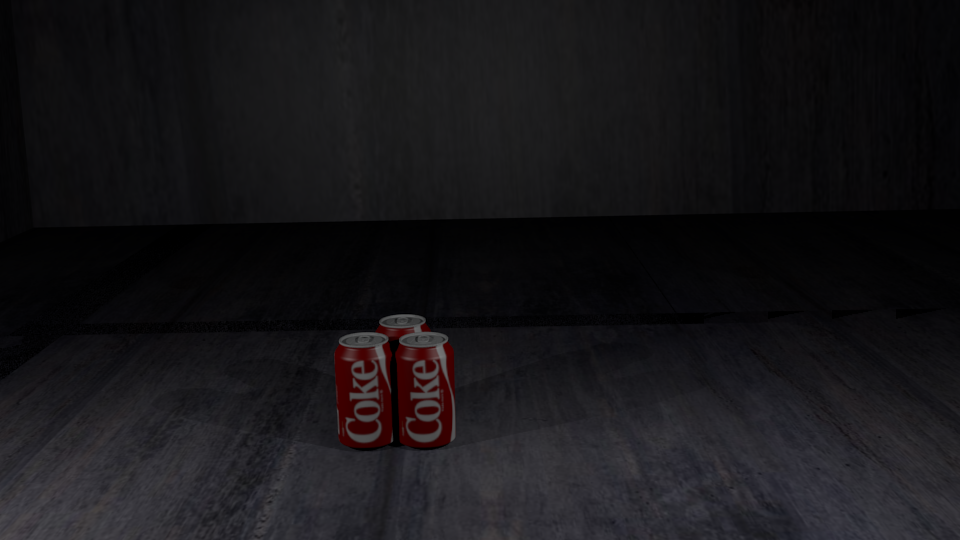cola_can: (334, 333, 395, 445), (394, 332, 454, 443), (375, 315, 430, 421)
